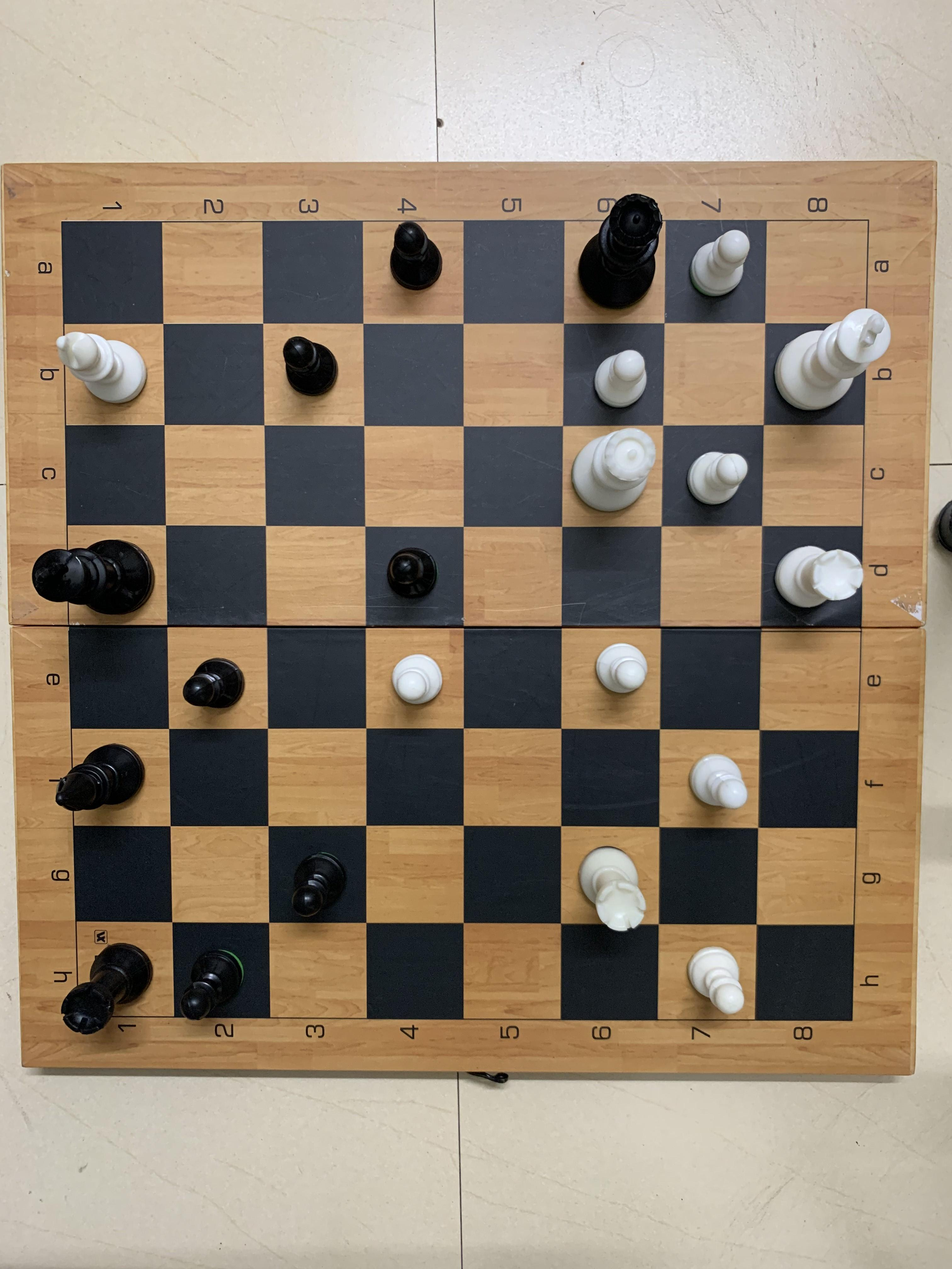black_bishop: (47, 729, 158, 827)
black_king: (22, 521, 161, 630)
black_pawn: (173, 929, 259, 1040), (164, 634, 265, 727), (362, 211, 456, 307), (365, 531, 463, 620), (272, 836, 358, 929), (268, 321, 352, 410)
black_queen: (573, 188, 671, 320)
black_rook: (50, 927, 157, 1043)
white_bishop: (46, 318, 154, 412)
white_king: (773, 298, 904, 422)
white_pawn: (675, 737, 765, 832), (368, 638, 459, 727), (573, 331, 662, 421), (571, 631, 662, 713), (671, 927, 752, 1019), (675, 435, 757, 517), (683, 222, 761, 305)
white_queen: (560, 424, 666, 531)
white_rook: (568, 834, 667, 936), (767, 524, 867, 624)
